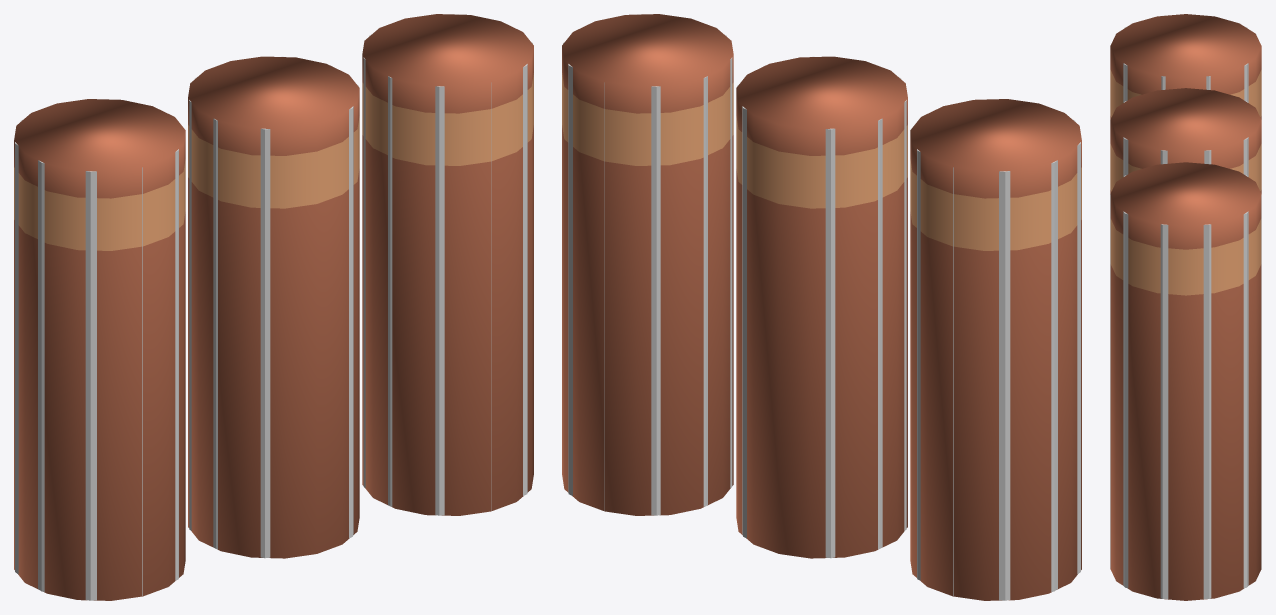
The model's file is RoadBlock.glb.
3 views of the same model, side by side, from view 1: azimuth 30°, elevation 25°; view 2: azimuth 150°, elevation 25°; view 3: azimuth 270°, elevation 25° (orthographic). The views are drawn at different scales.
Visible parts, largest first — view 1: RoadBlock, cylinder_2, cylinder_1, cylinder_0; view 2: RoadBlock, cylinder_2, cylinder_1, cylinder_0; view 3: RoadBlock, cylinder_1, cylinder_0, cylinder_2.
Part boxes in pixels (bbox=[...]): RoadBlock: bbox=[14, 14, 533, 600]; cylinder_2: bbox=[15, 99, 183, 600]; cylinder_1: bbox=[363, 14, 532, 515]; cylinder_0: bbox=[189, 56, 358, 558]; RoadBlock: bbox=[562, 14, 1081, 600]; cylinder_2: bbox=[912, 99, 1080, 600]; cylinder_1: bbox=[563, 14, 732, 515]; cylinder_0: bbox=[737, 56, 906, 558]; RoadBlock: bbox=[1110, 14, 1261, 600]; cylinder_1: bbox=[1110, 175, 1261, 598]; cylinder_0: bbox=[1123, 101, 1248, 176]; cylinder_2: bbox=[1123, 15, 1248, 102].
Bounding box in the file's own units: 6.64 × 5.47 × 2.
Materials: 1 (1 with a texture image).
